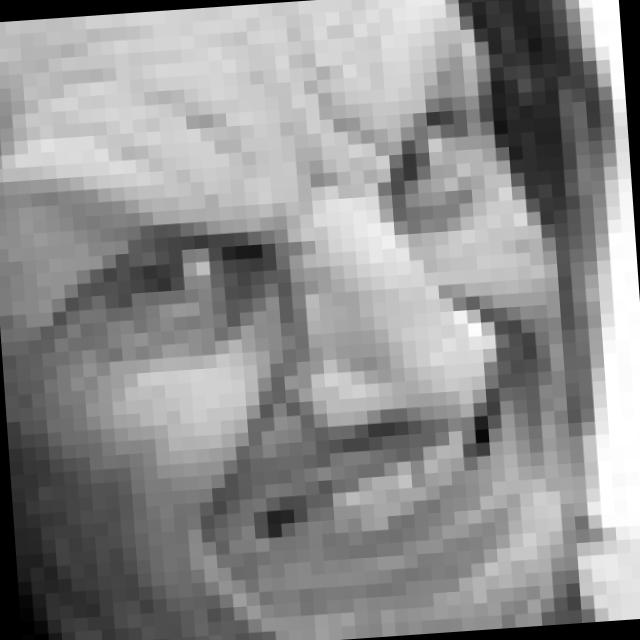angry: (43, 39, 562, 610)
